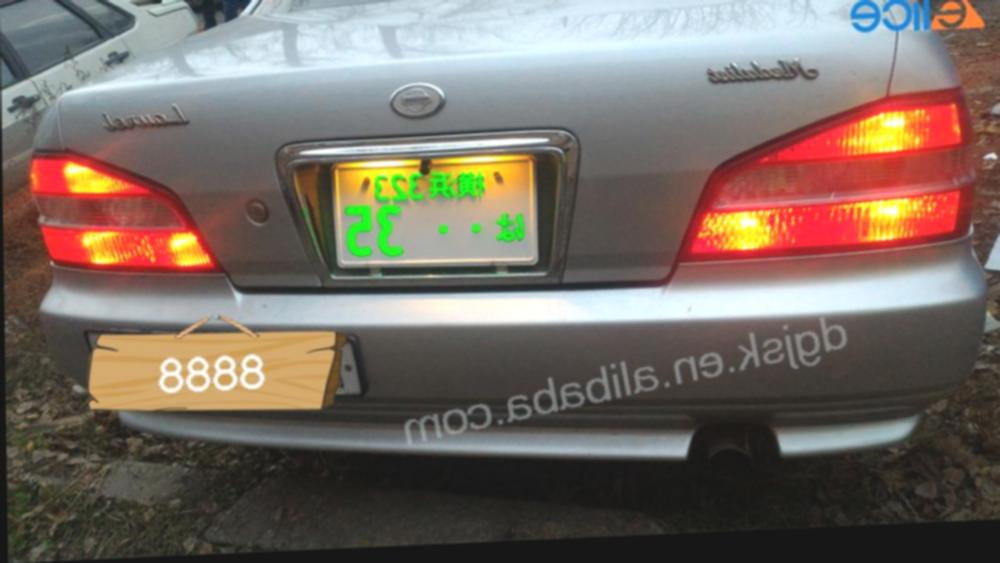License_Plate: (325, 144, 545, 284)
